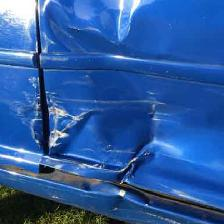door_dent: (24, 6, 193, 196)
